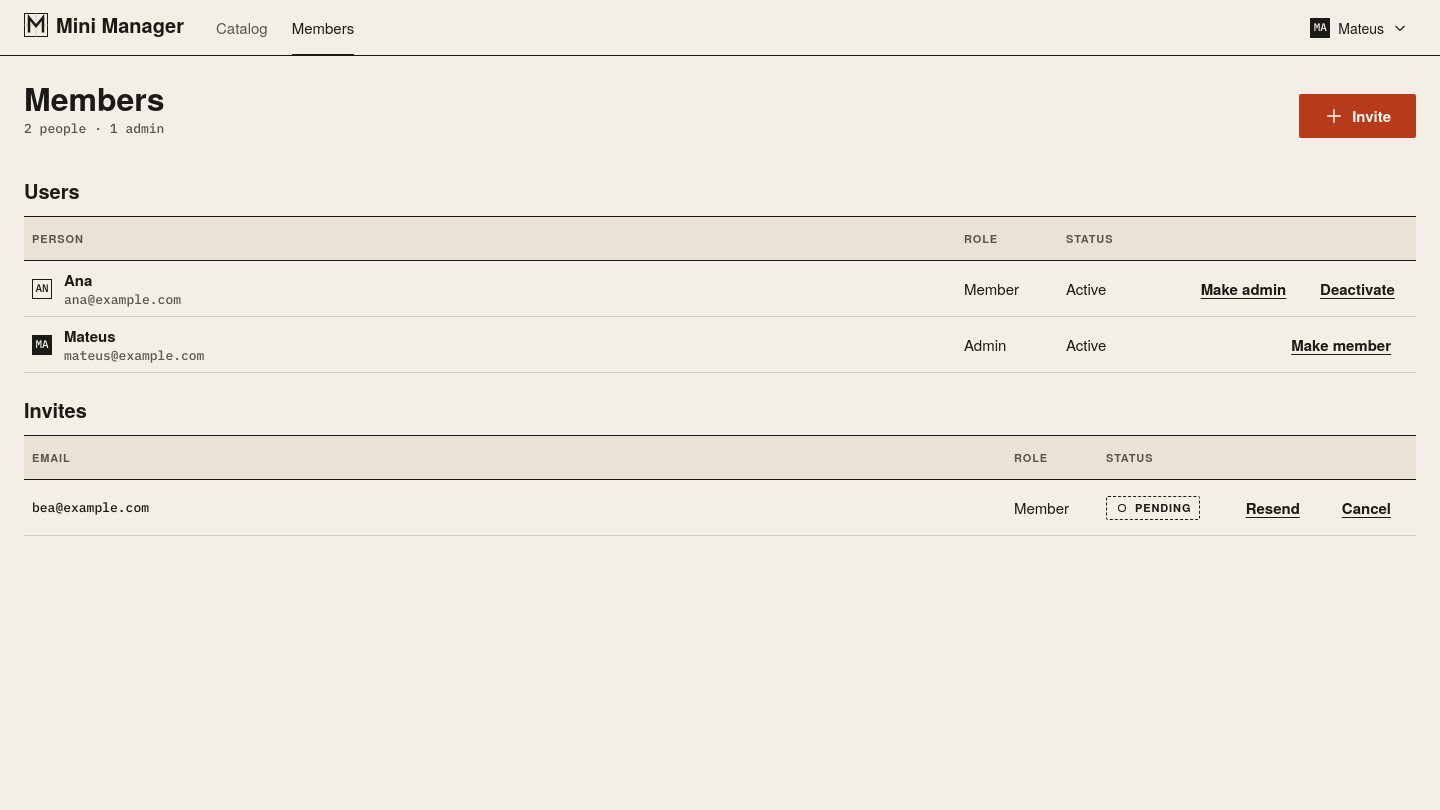
it: MembersPage › card 4 acceptance criterion 3: demoting the only Admin shows the card message
Step 1. Click the button with aria-label "Make Mateus a member" → (1341,344), box [1274,328,1408,360]
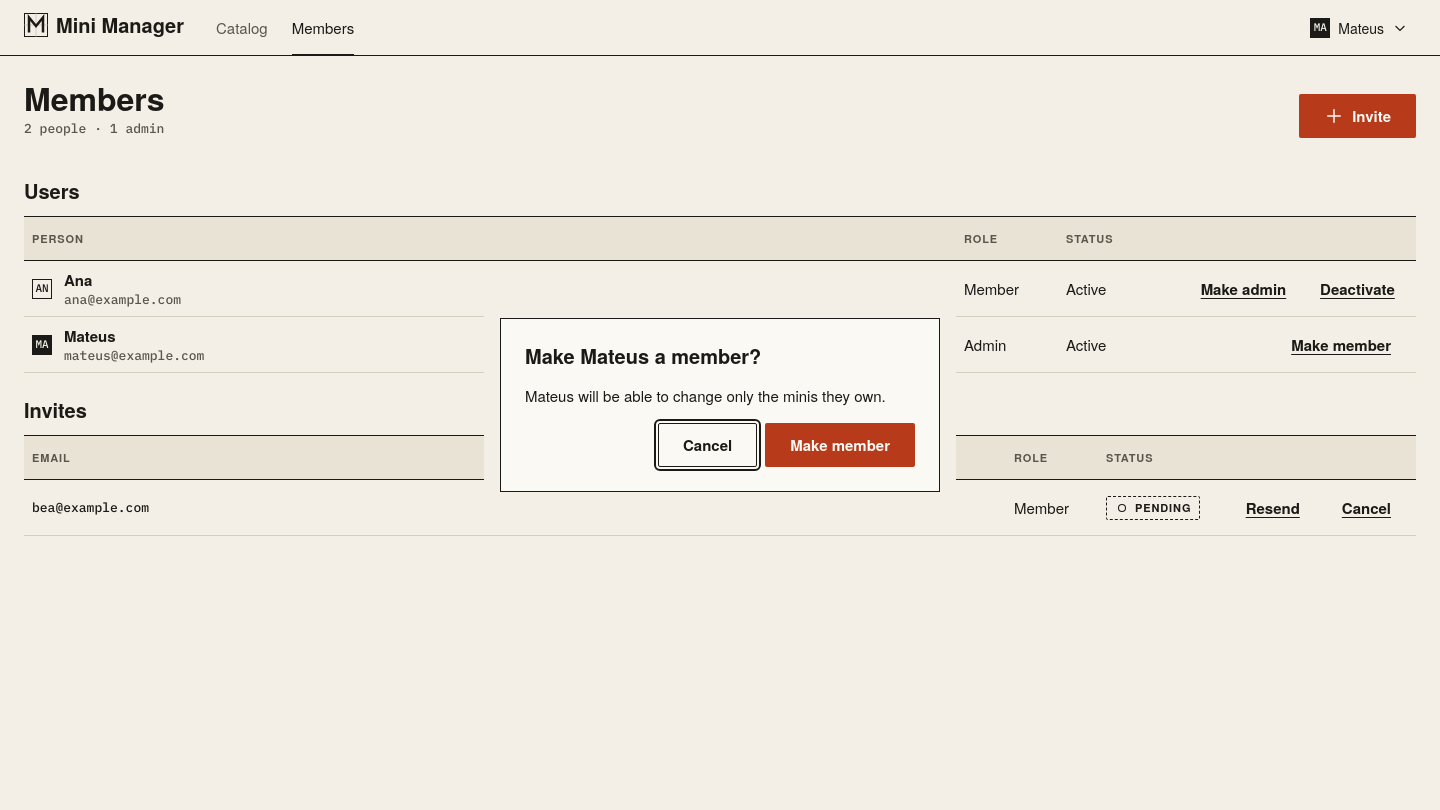
Step 2. Click the button "Make member" → (840,445), box [765,423,915,467]
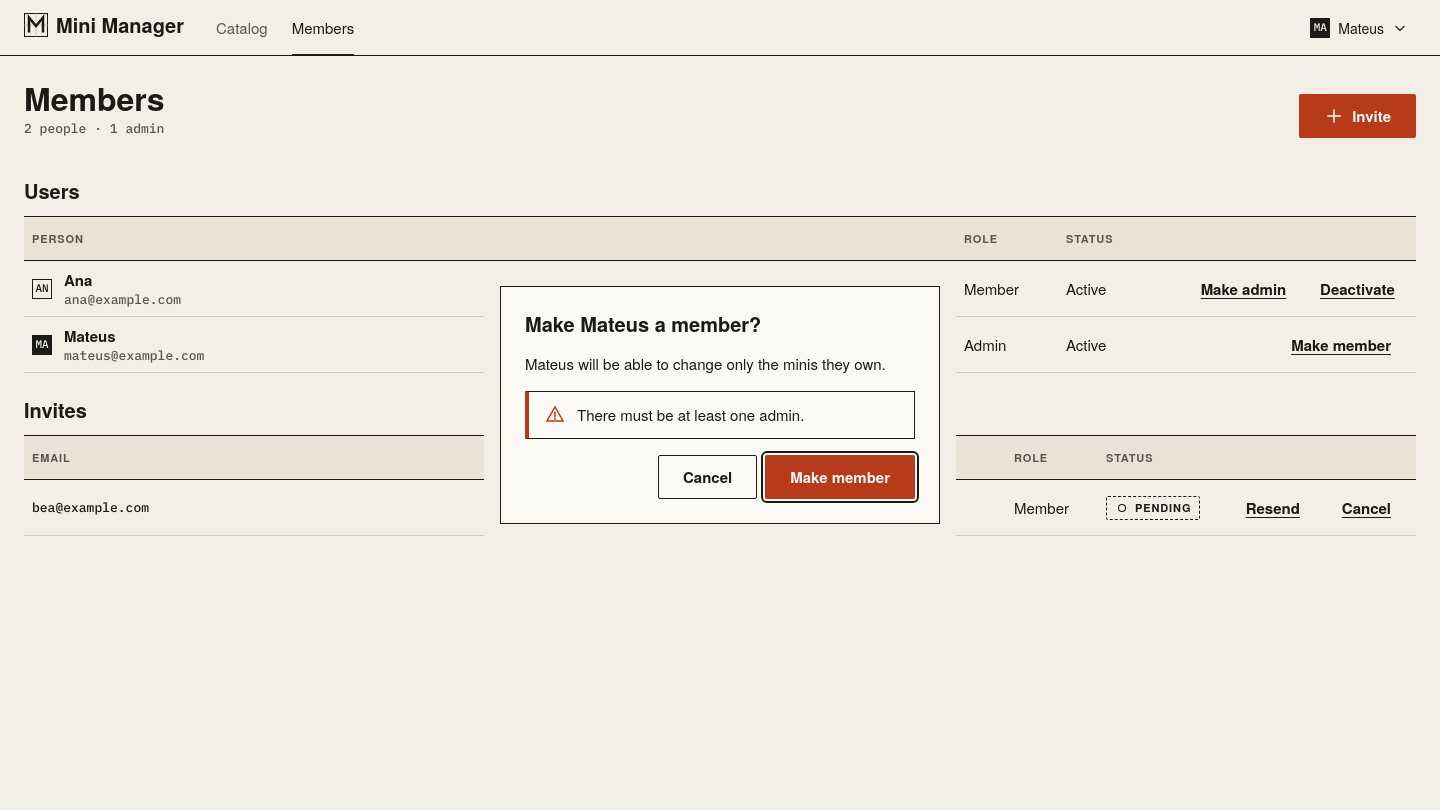
Result: the text "There must be at least one admin." is shown at [577,404,804,426]
